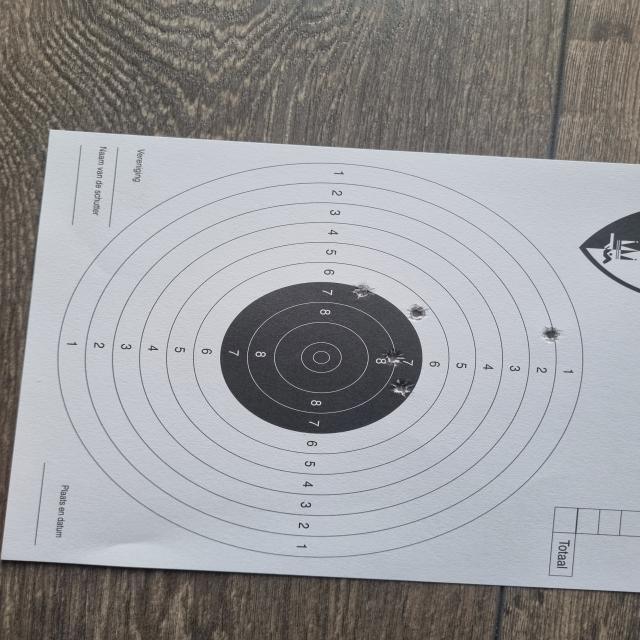2: (540, 325, 566, 347)
6: (405, 303, 429, 321)
7: (391, 378, 413, 400), (349, 282, 373, 298)
8: (379, 350, 406, 370)
Target: (56, 158, 586, 558)
black_contour: (215, 281, 425, 437)
